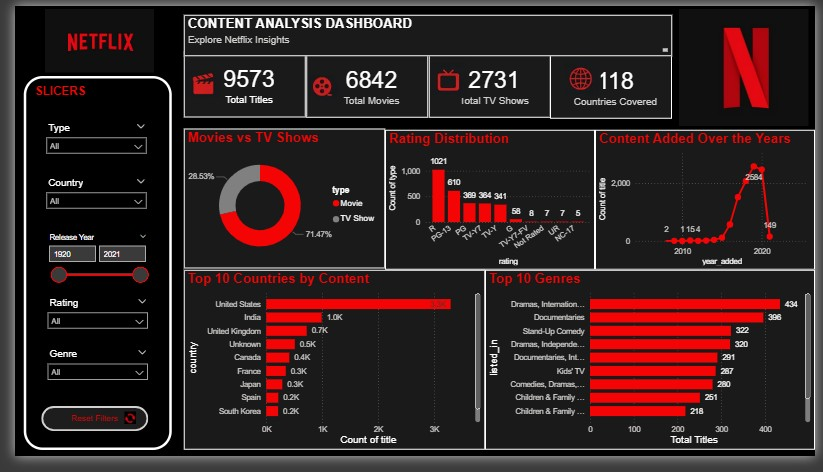

The page's visual inventory and layout, read from the dashboard file:
{"tool":"powerbi","page":{"name":"Page 1","canvas":[1280,720],"ordinal":0},"visuals":[{"type":"image","box":[0,0,270,111.7],"z":0},{"type":"card","title":"Total Titles","fields":{"Values":["netflix.Total Titles"]},"box":[270,72,195,106],"z":1000},{"type":"card","fields":{"Values":["netflix.Total Movies"]},"box":[466,73,195,105],"z":2000},{"type":"card","fields":{"Values":["netflix.Total TV Shows"]},"box":[662,74,195,105],"z":3000},{"type":"card","fields":{"Values":["netflix.Countries Covered"]},"box":[856.7,73.3,195,106.7],"z":4000},{"type":"donutChart","title":"Movies vs TV Shows","fields":{"Y":["CountNonNull(netflix.title)"],"Category":["netflix.type"]},"box":[270,196,322,224],"z":5000},{"type":"lineChart","title":"Content Added Over the Years","fields":{"Category":["netflix.year_added"],"Y":["CountNonNull(netflix.title)"]},"box":[928,198,352,224],"z":6000},{"type":"barChart","title":"Top 10 Countries by Content","fields":{"Category":["netflix.country"],"Y":["CountNonNull(netflix.title)"]},"box":[270,422,482,288],"z":7000},{"type":"columnChart","title":"Rating Distribution ","fields":{"Category":["netflix.rating"],"Y":["CountNonNull(netflix.type)"]},"box":[592,198,336,224],"z":8000},{"type":"textbox","title":"SLICERS","box":[13.3,111.7,236.7,598.3],"z":9000},{"type":"slicer","fields":{"Values":["netflix.type"]},"box":[40,180,180,70],"z":10000},{"type":"slicer","fields":{"Values":["netflix.country"]},"box":[40,268,180,70],"z":11000},{"type":"slicer","fields":{"Values":["netflix.release_year"]},"box":[42,358,180,102],"z":12000},{"type":"slicer","fields":{"Values":["netflix.rating"]},"box":[42,460,180,70],"z":13000},{"type":"slicer","fields":{"Values":["netflix.listed_in"]},"box":[42,542,180,70],"z":14000},{"type":"textbox","title":"CONTENT ANALYSIS DASHBOARD","box":[270,13.3,781.7,66.7],"z":15000},{"type":"image","box":[1051.7,0,228.3,196.7],"z":16000},{"type":"actionButton","box":[41.2,640,171.2,40],"z":17000},{"type":"image","box":[269.8,75,63.5,98.1],"z":18000},{"type":"image","box":[464.6,79.4,60.6,101],"z":19000},{"type":"image","box":[662.2,56.3,64.9,124.1],"z":20000},{"type":"image","box":[874.3,79.4,67.8,69.3],"z":21000},{"type":"image","box":[155.7,644.3,57.1,30],"z":22000},{"type":"barChart","title":"Top 10 Genres ","fields":{"Category":["netflix.listed_in"],"Y":["netflix.Total Titles"]},"box":[752,422,528,288],"z":23000}]}

Visuals, with their boxes in screenshot pixels (x1, y1, x2, y2), scaled from the page's 1280x720 canvas onto the 823x472 screenshot:
image: <region>0, 0, 174, 73</region>
"Total Titles" card: <region>174, 47, 299, 117</region>
card - netflix.Total Movies: <region>300, 48, 425, 117</region>
card - netflix.Total TV Shows: <region>426, 49, 551, 117</region>
card - netflix.Countries Covered: <region>551, 48, 676, 118</region>
"Movies vs TV Shows" donutChart: <region>174, 128, 381, 275</region>
"Content Added Over the Years" lineChart: <region>597, 130, 822, 277</region>
"Top 10 Countries by Content" barChart: <region>174, 277, 484, 465</region>
"Rating Distribution " columnChart: <region>381, 130, 597, 277</region>
"SLICERS" textbox: <region>9, 73, 161, 465</region>
slicer - netflix.type: <region>26, 118, 141, 164</region>
slicer - netflix.country: <region>26, 176, 141, 222</region>
slicer - netflix.release_year: <region>27, 235, 143, 302</region>
slicer - netflix.rating: <region>27, 302, 143, 347</region>
slicer - netflix.listed_in: <region>27, 355, 143, 401</region>
"CONTENT ANALYSIS DASHBOARD" textbox: <region>174, 9, 676, 52</region>
image: <region>676, 0, 822, 129</region>
actionButton: <region>26, 420, 137, 446</region>
image: <region>173, 49, 214, 113</region>
image: <region>299, 52, 338, 118</region>
image: <region>426, 37, 468, 118</region>
image: <region>562, 52, 606, 97</region>
image: <region>100, 422, 137, 442</region>
"Top 10 Genres " barChart: <region>484, 277, 822, 465</region>
